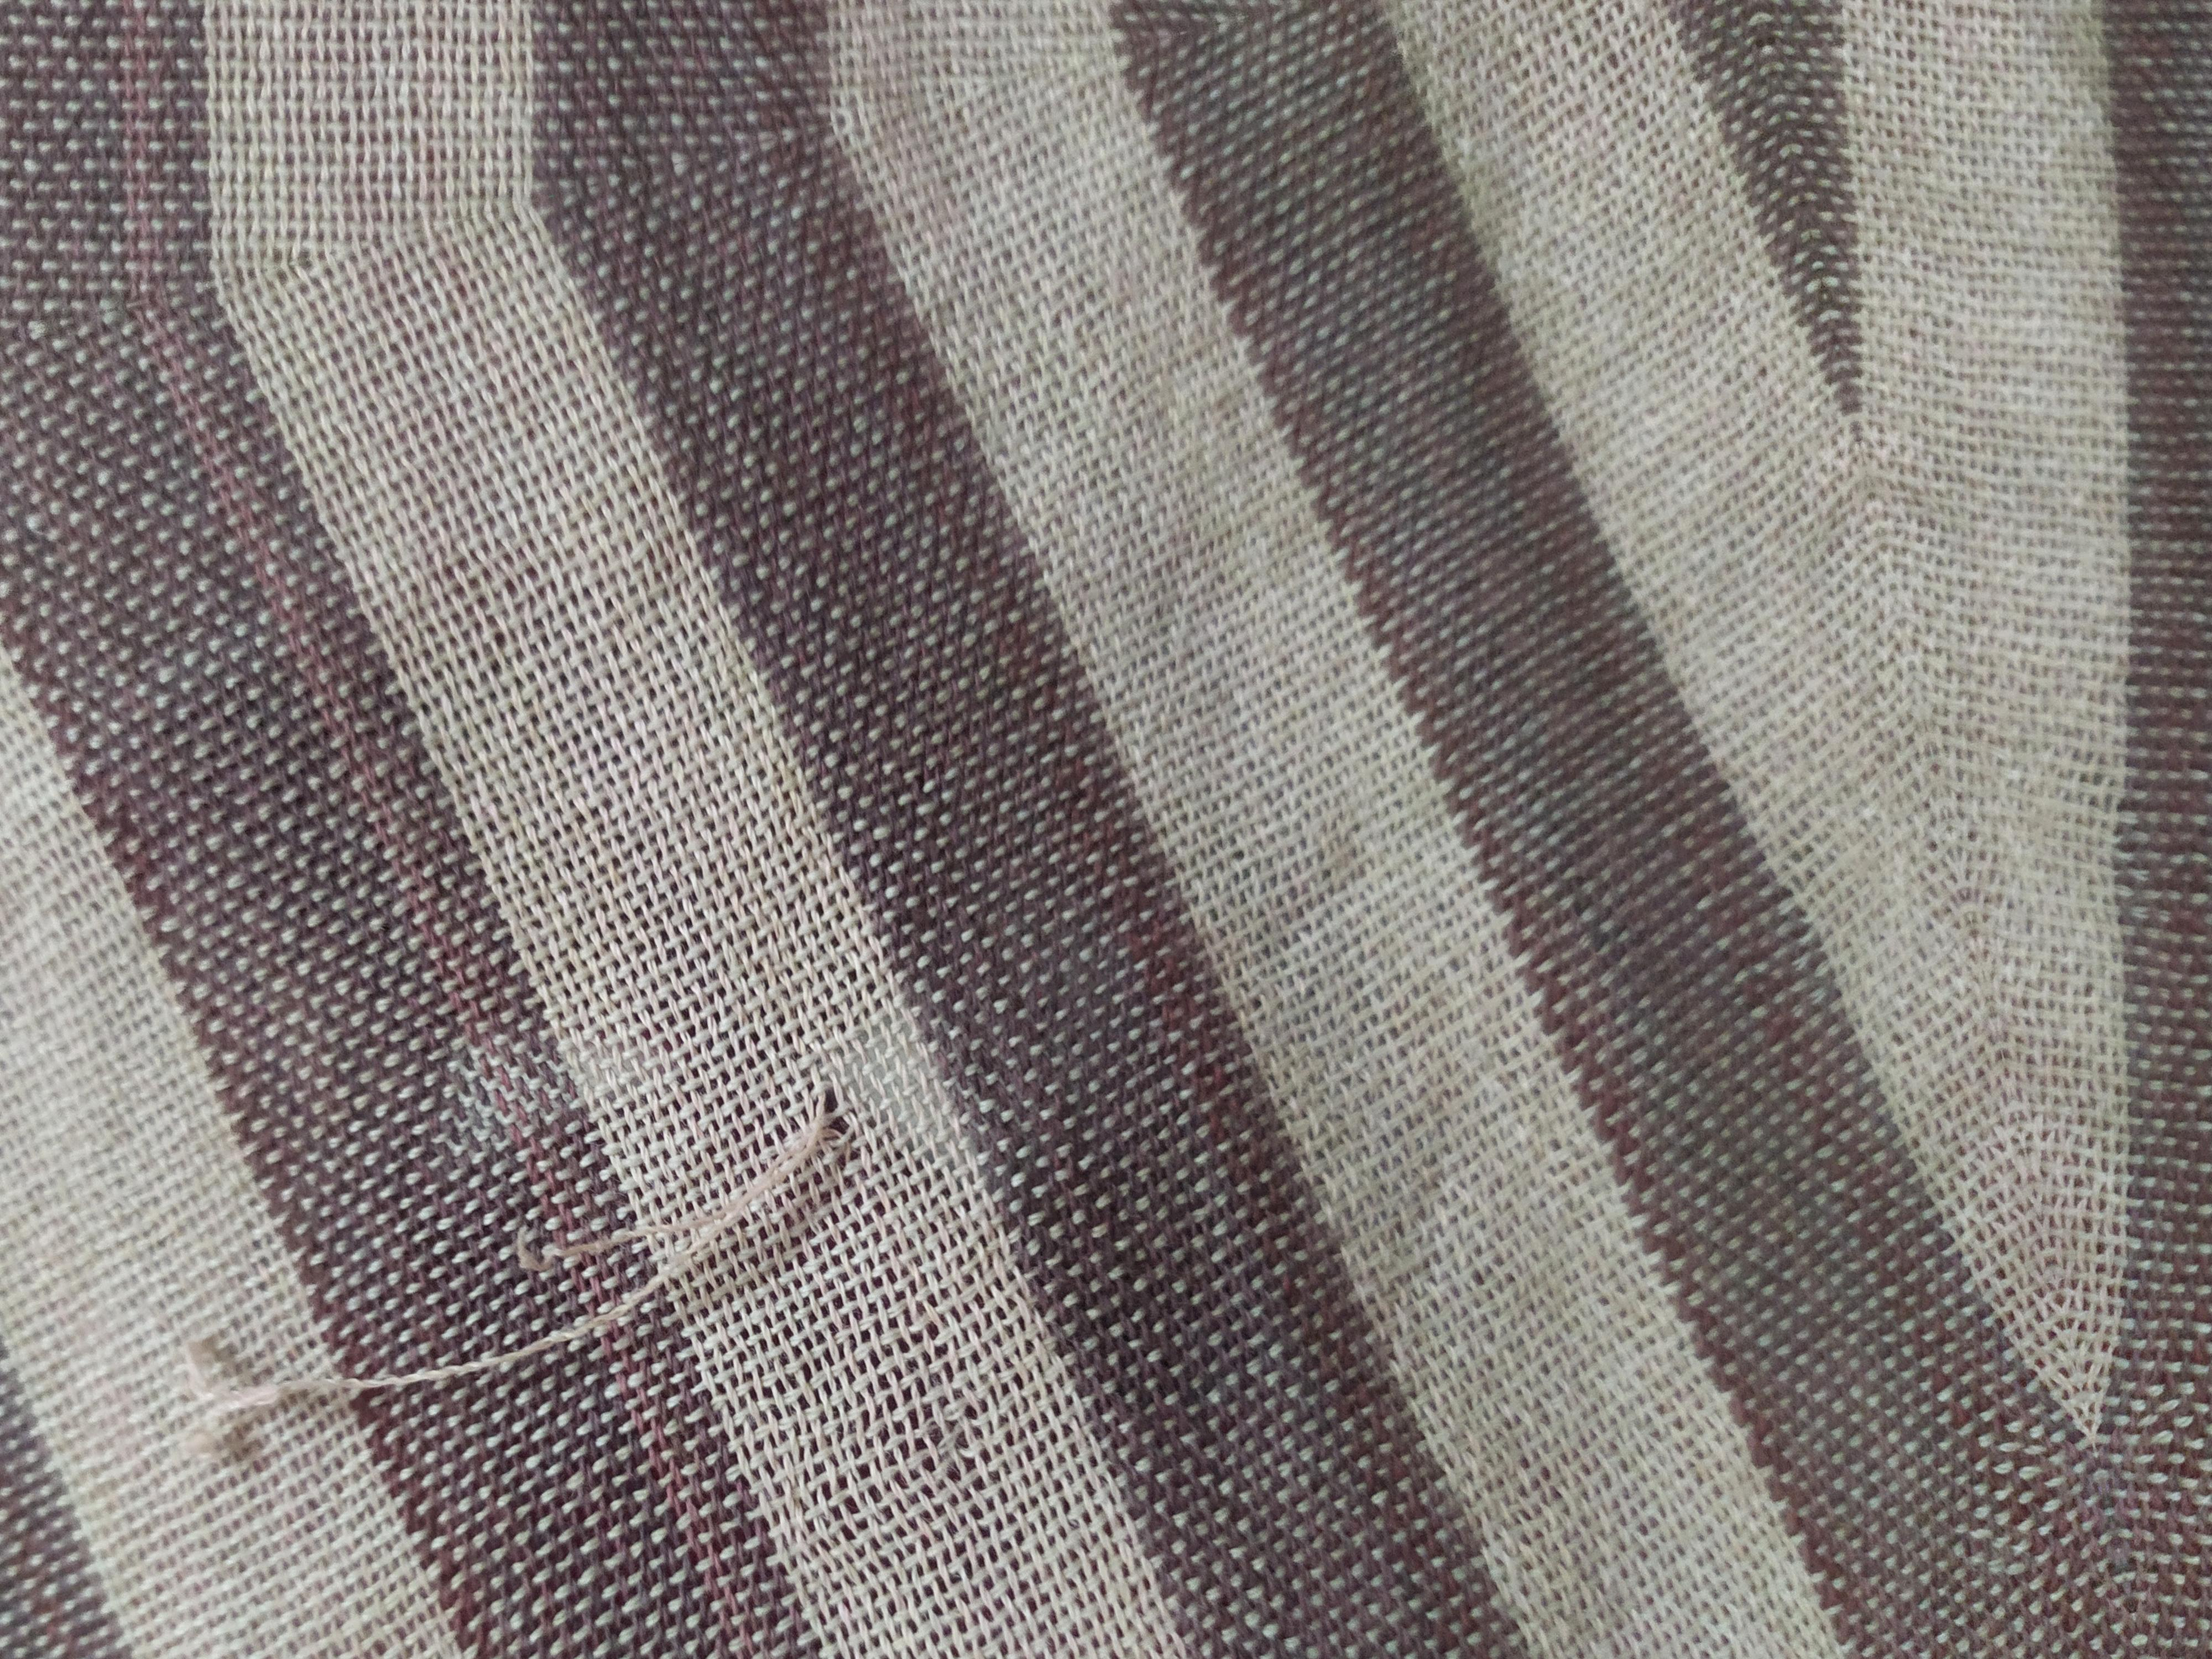snag: (176, 1056, 913, 1499)
